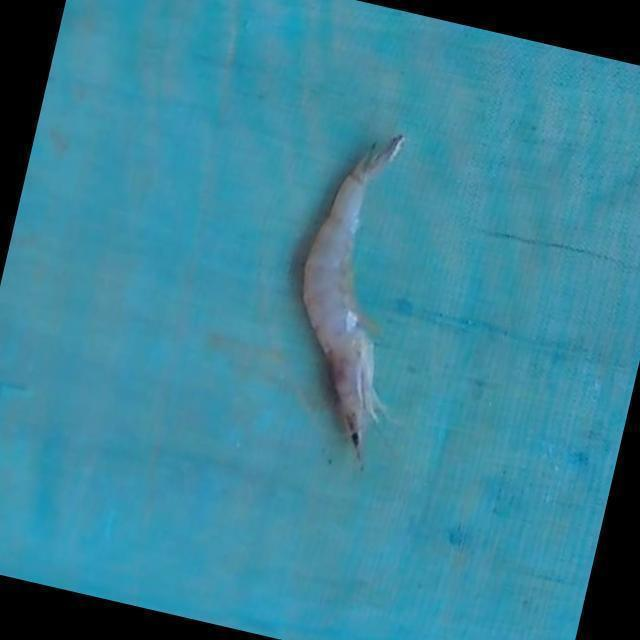shrimp: (303, 134, 405, 460)
